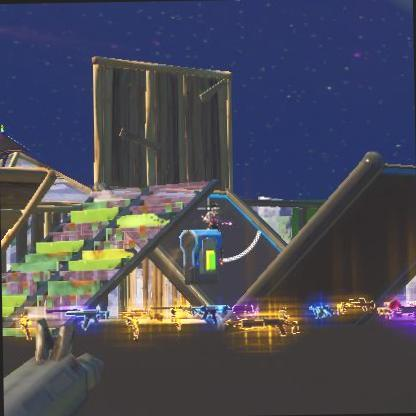person: (210, 205, 230, 267)
